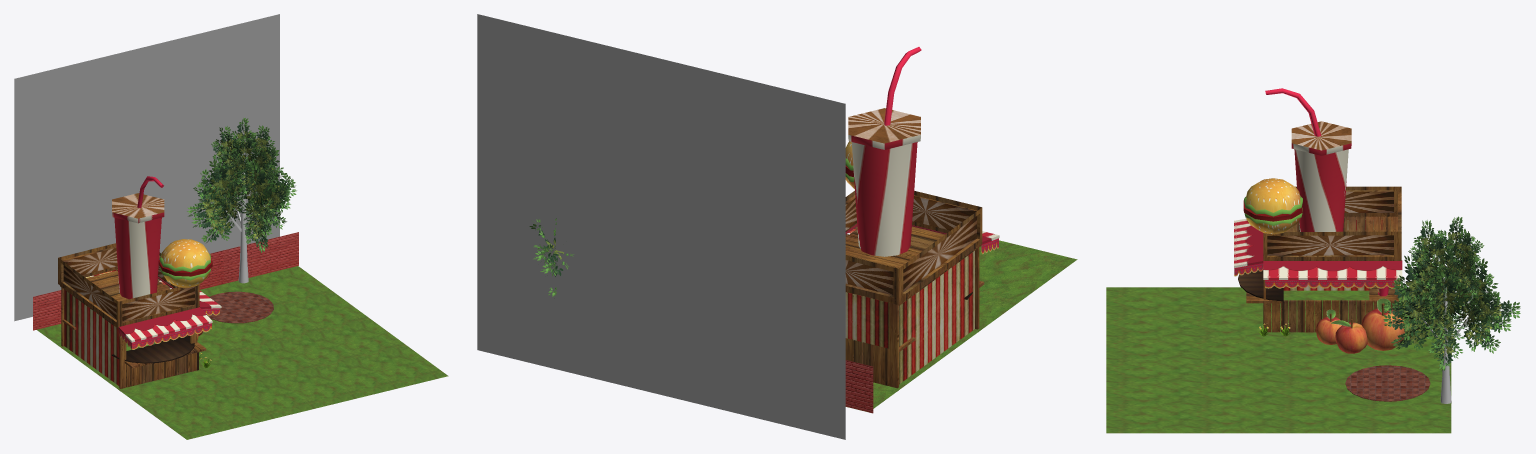
The model's file is toss and feed.fbx.
3 renders of one model, left to right at view 1: azimuth 30°, elevation 25°; view 2: azimuth 150°, elevation 25°; view 3: azimuth 270°, elevation 25°, orthographic. The views are drawn at different scales.
Parts seen in each view (by area): view 1: pPlane324, polySurface3645, polySurface3644, polySurface8245, pPlane322, pCylinder279; view 2: pPlane324, polySurface3644, polySurface3645, pPlane322, polySurface8245; view 3: polySurface3645, polySurface3644, polySurface8245, pCylinder279.
Boxes of the visible parts, x1,y1,x2,y2 form: pPlane324: (14,14,279,321); polySurface3645: (37,266,448,439); polySurface3644: (58,176,221,388); polySurface8245: (187,118,296,283); pPlane322: (33,232,298,330); pCylinder279: (206,291,273,323); pPlane324: (477,14,845,439); polySurface3644: (845,47,999,388); polySurface3645: (847,240,1077,411); pPlane322: (845,360,873,413); polySurface8245: (529,218,574,298); polySurface3645: (1106,287,1451,433); polySurface3644: (1234,88,1404,353); polySurface8245: (1383,216,1520,403); pCylinder279: (1345,365,1430,401).
Size of the model in its own units: 24.38 by 21.21 by 28.76.
